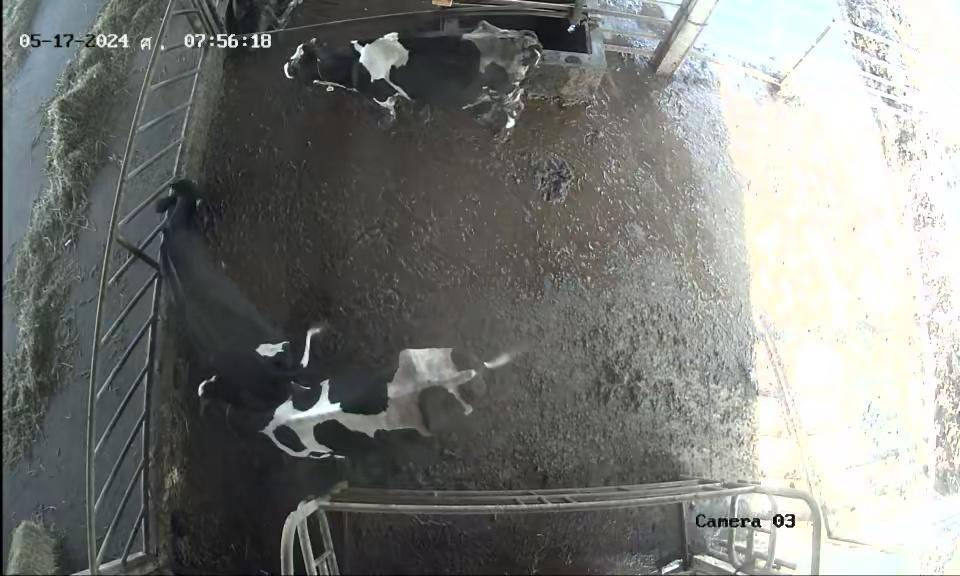stand: (182, 332, 514, 465), (269, 12, 551, 154), (152, 178, 312, 386)
